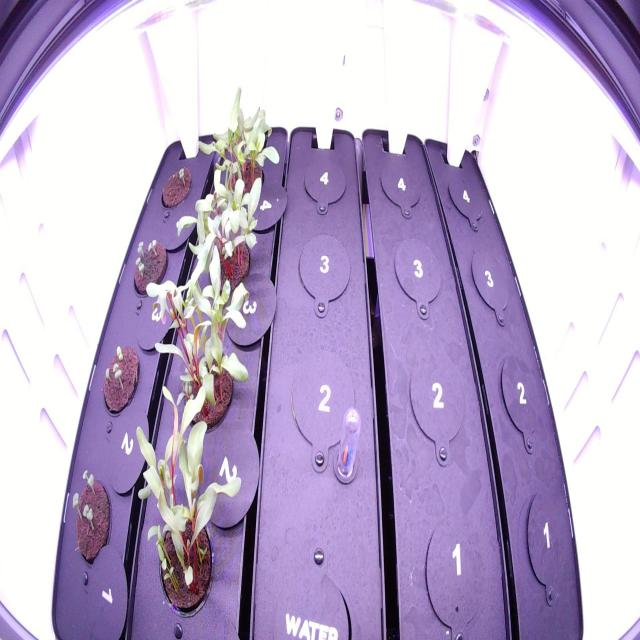empty_pod: (416, 509, 490, 638), (284, 344, 360, 462), (403, 346, 470, 465), (518, 483, 574, 602), (496, 348, 548, 454), (389, 229, 446, 323), (294, 225, 354, 309), (465, 238, 518, 322), (373, 152, 428, 220), (299, 147, 350, 213), (443, 166, 492, 230)
germination: (62, 460, 115, 571), (93, 337, 143, 417), (125, 227, 172, 306), (154, 160, 196, 217)
